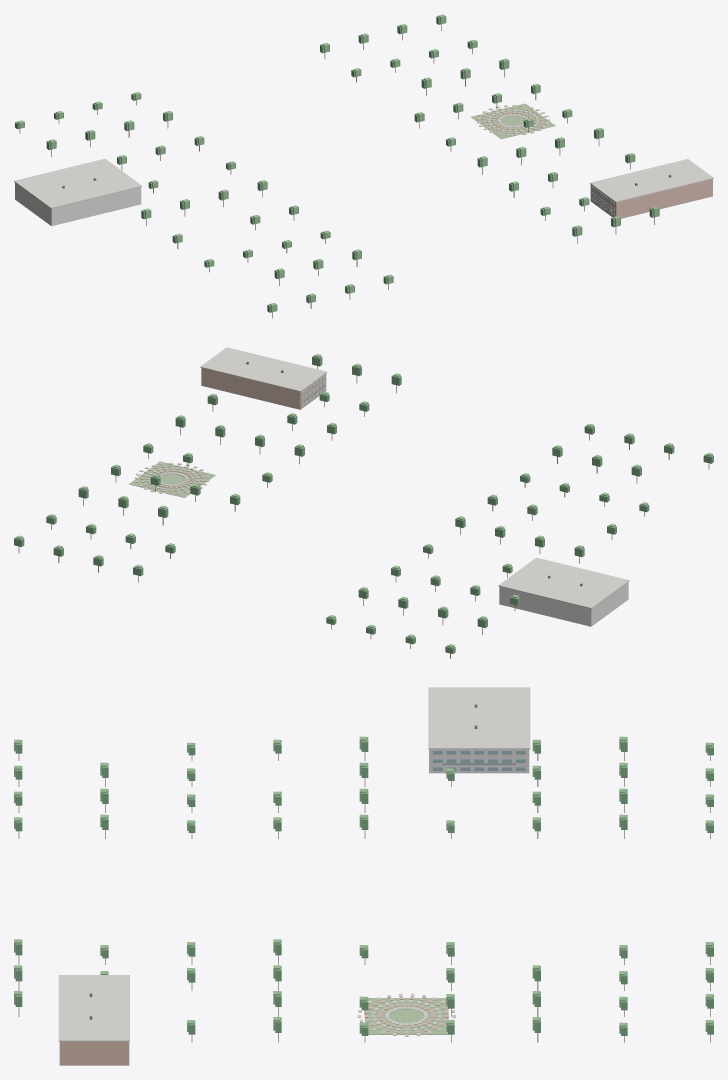
3 renders of one model, top to bottom at view 1: azimuth 30°, elevation 25°; view 2: azimuth 150°, elevation 25°; view 3: azimuth 270°, elevation 25°, orthographic. The views are drawn at different scales.
Visible parts, largest first — view 1: Station 13 photo-informed architecture and surroundings; view 2: Station 13 photo-informed architecture and surroundings; view 3: Station 13 photo-informed architecture and surroundings.
Part boxes in pixels (x1,y1,x2,y2): Station 13 photo-informed architecture and surroundings: (14, 14, 713, 318); Station 13 photo-informed architecture and surroundings: (14, 347, 713, 658); Station 13 photo-informed architecture and surroundings: (14, 687, 713, 1065).
Size of the model in its own units: 300 by 11.1 by 251.
